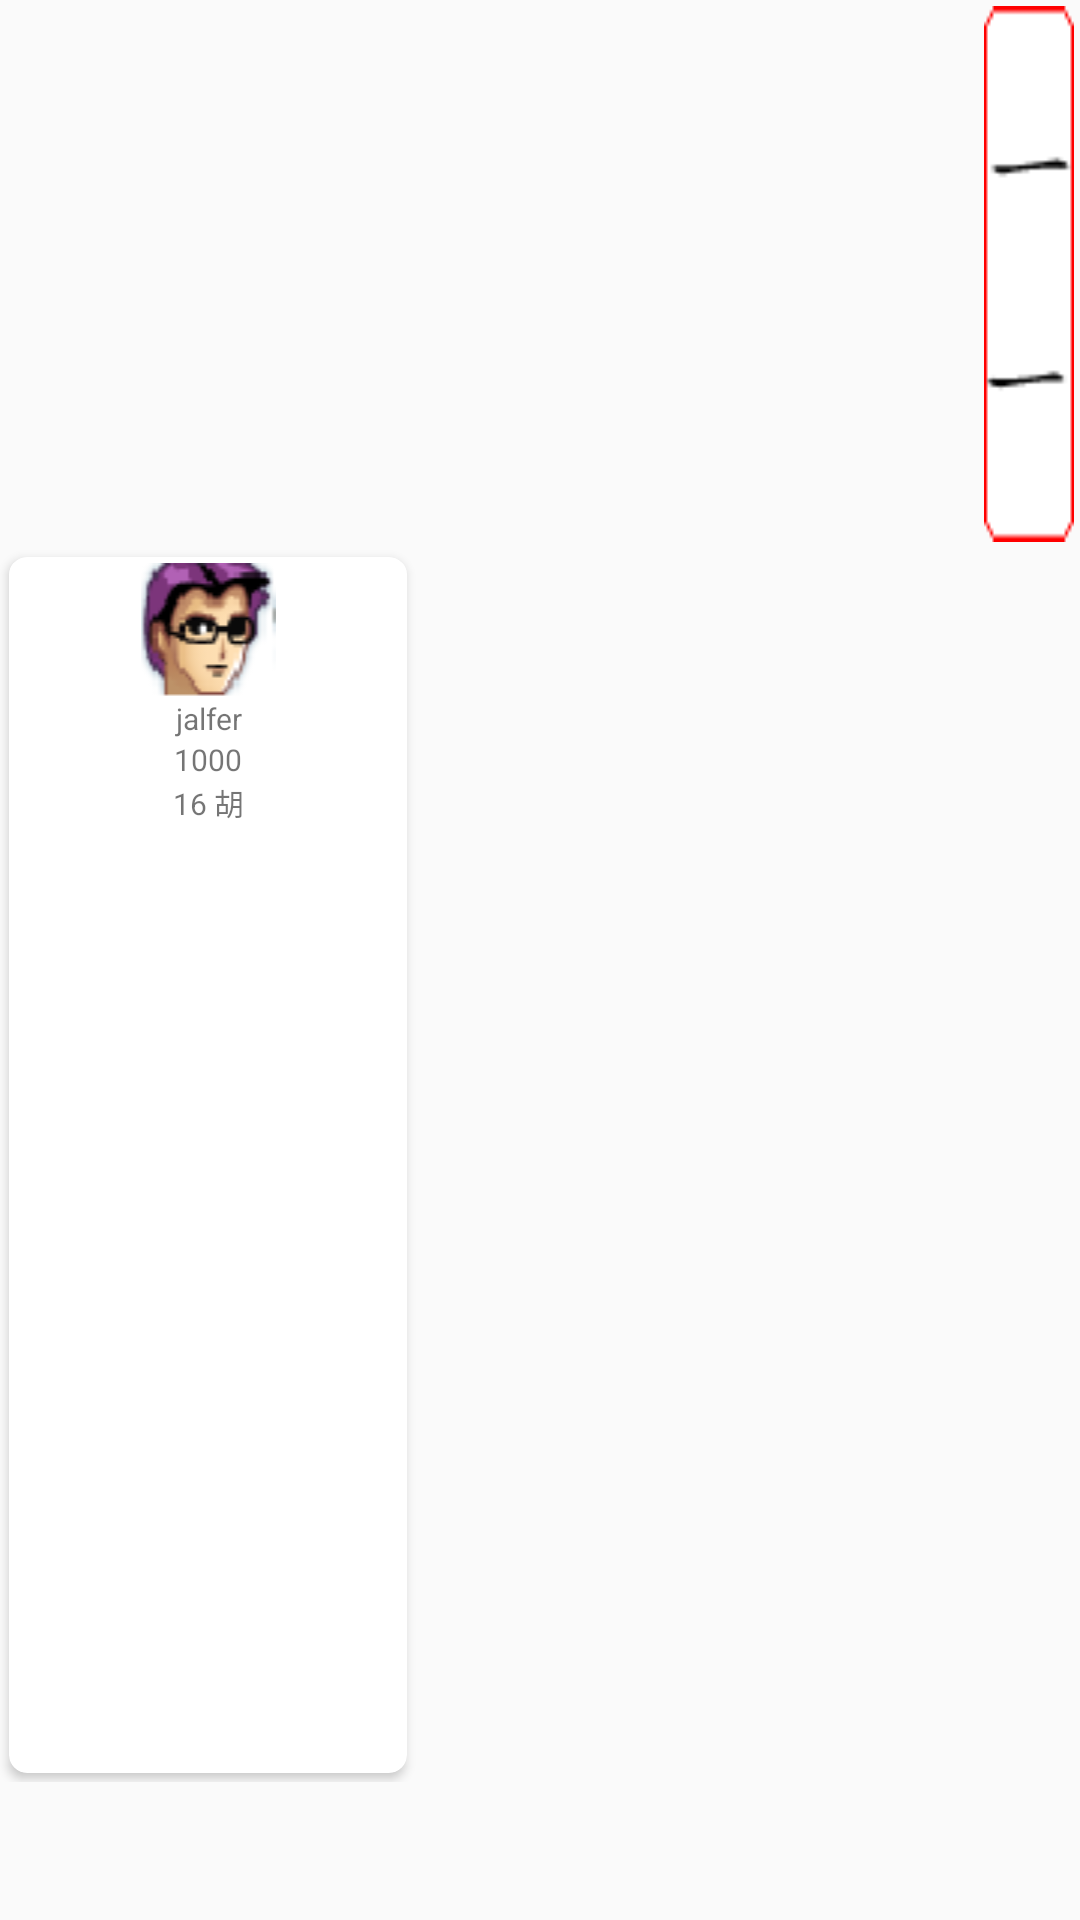

Icons on this 1080x1920 Android screen, each with the point to tap as (x,y):
head: (208,629)
